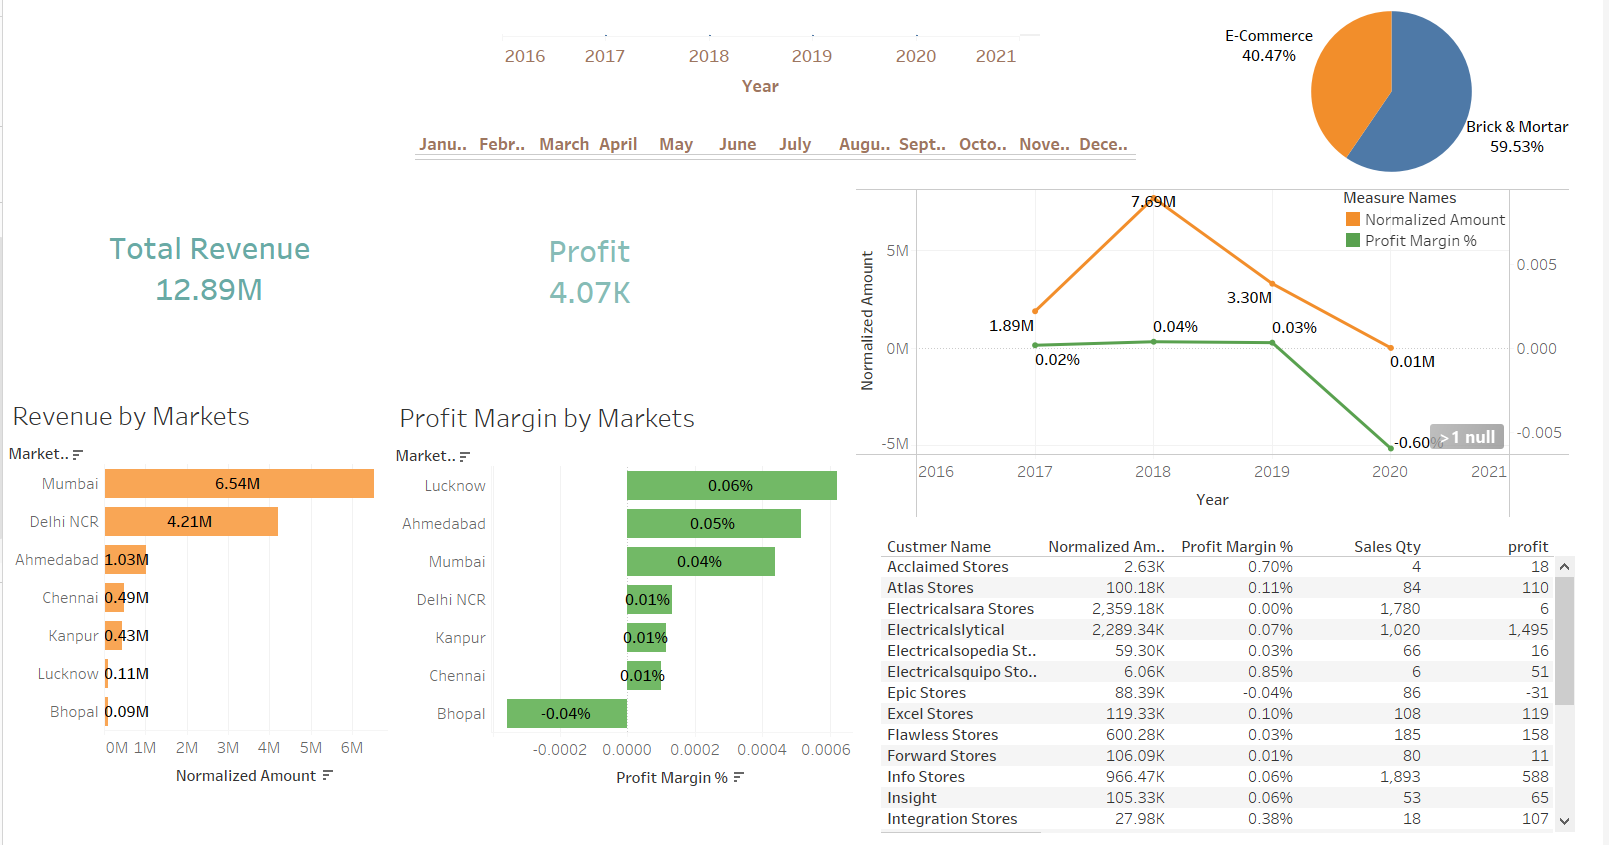

What the dashboard file says about the page in this screenshot:
{"tool":"tableau","page":{"name":"Dashboard - Profit Analysis","canvas":[1600,900],"ordinal":0},"visuals":[{"type":"worksheet","title":"Pie Chart","mark":"Pie","box":[1210,8,357,184]},{"type":"worksheet","title":"Year","mark":"Automatic","cols":["year"],"box":[499,35,538,85]},{"type":"worksheet","title":"Month","mark":"Automatic","cols":["month_name"],"box":[412,134,722,69]},{"type":"worksheet","title":"Profit Trend","mark":"Automatic","rows":["Calculation_1247215647217033216","Calculation_1247215647266312201"],"cols":["year"],"box":[853,190,714,344]},{"type":"legend","title":"Profit Trend","param":"[federated.18evcf814rdjqm19lbimd0k06dk7].[:Measure Names]","box":[1340,203,168,64]},{"type":"worksheet","title":"Revenue","mark":"Automatic","box":[97,228,248,108]},{"type":"worksheet","title":"Profit","mark":"Automatic","box":[537,231,136,103]},{"type":"worksheet","title":"Revenue by Markets","mark":"Automatic","rows":["markets_name"],"cols":["Calculation_1247215647217033216"],"box":[5,410,380,430]},{"type":"worksheet","title":"Profit Margin by Markets","mark":"Automatic","rows":["markets_name"],"cols":["Calculation_1247215647266312201"],"box":[392,412,458,415]},{"type":"worksheet","title":"Customer Table","mark":"Automatic","rows":["custmer_name"],"box":[878,537,698,312]}]}

Visuals, with their boxes on the page's 1600x900 design canvas (x1, y1, x2, y2). These are canvas units, not pixel positions in the 1609x845 screenshot, which may show the page scaled, cropped or inside an application window:
"Pie Chart" worksheet (Pie marks): x1=1210, y1=8, x2=1567, y2=192
"Year" worksheet: x1=499, y1=35, x2=1037, y2=120
"Month" worksheet: x1=412, y1=134, x2=1134, y2=203
"Profit Trend" worksheet: x1=853, y1=190, x2=1567, y2=534
"Profit Trend" legend: x1=1340, y1=203, x2=1508, y2=267
"Revenue" worksheet: x1=97, y1=228, x2=345, y2=336
"Profit" worksheet: x1=537, y1=231, x2=673, y2=334
"Revenue by Markets" worksheet: x1=5, y1=410, x2=385, y2=840
"Profit Margin by Markets" worksheet: x1=392, y1=412, x2=850, y2=827
"Customer Table" worksheet: x1=878, y1=537, x2=1576, y2=849
